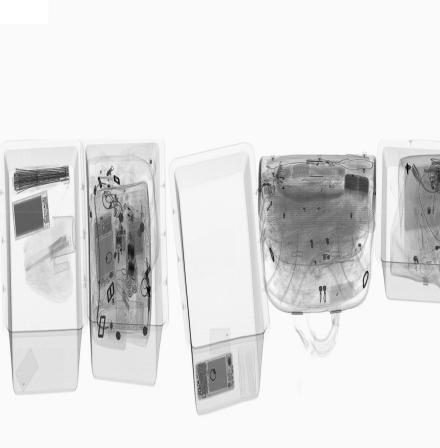Powerbank: (11, 188, 52, 244)
